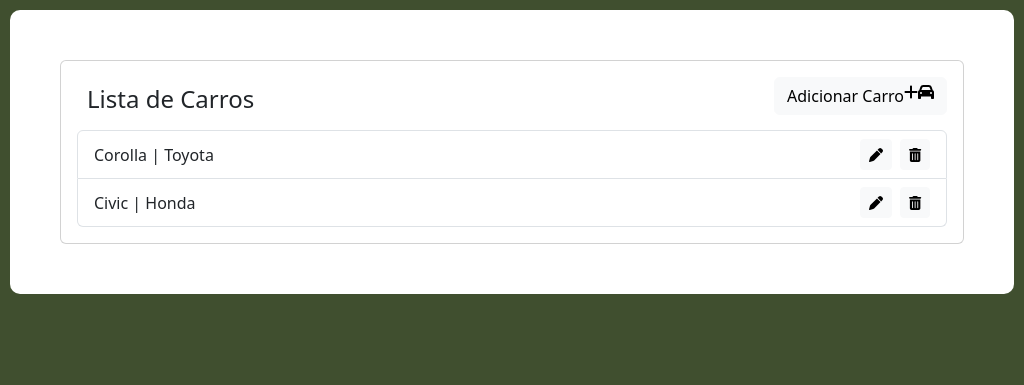
Test case: Teste CarList › Verifica se está excluíndo e mostrando a mensagem de sucesso para excluir um carro
The image size is (1024, 385).
Click the button titled "Excluir carro" in the row of "Corolla". click: (915, 154)
box: [900,139,930,170]
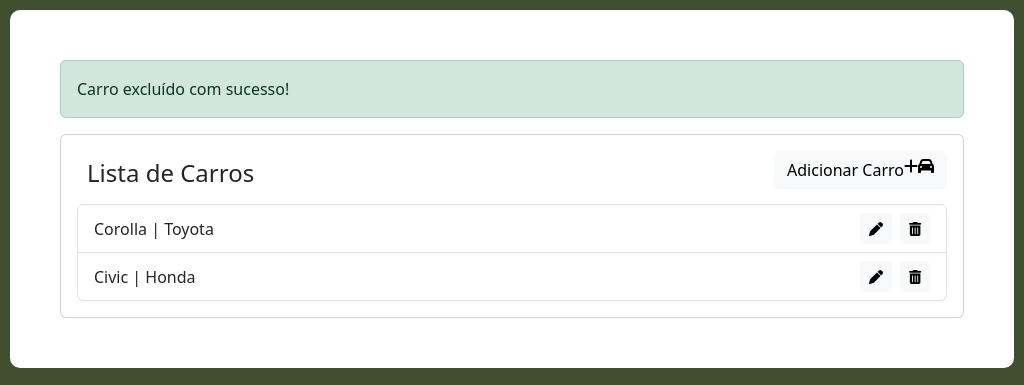
Check: the text "Carro excluído com sucesso!" is shown, box [60,60,964,118]
